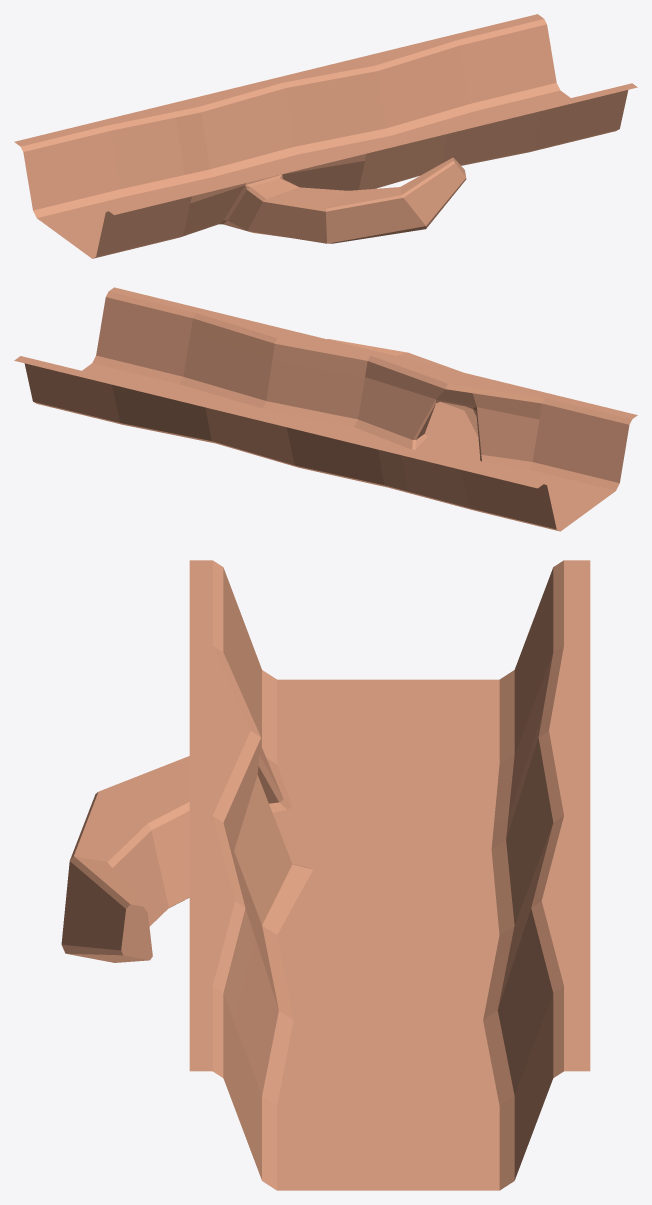
File: Canyon03.fbx
3 renders of one model, top to bottom at view 1: azimuth 30°, elevation 25°; view 2: azimuth 150°, elevation 25°; view 3: azimuth 270°, elevation 25°, orthographic. The views are drawn at different scales.
Visible parts, largest first — view 1: Canyon03; view 2: Canyon03; view 3: Canyon03.
Part boxes in pixels (bbox=[...]): Canyon03: bbox=[14, 14, 637, 258]; Canyon03: bbox=[14, 287, 637, 531]; Canyon03: bbox=[61, 560, 590, 1190].
Size of the model in its own units: 21331 by 2324 by 9328.
